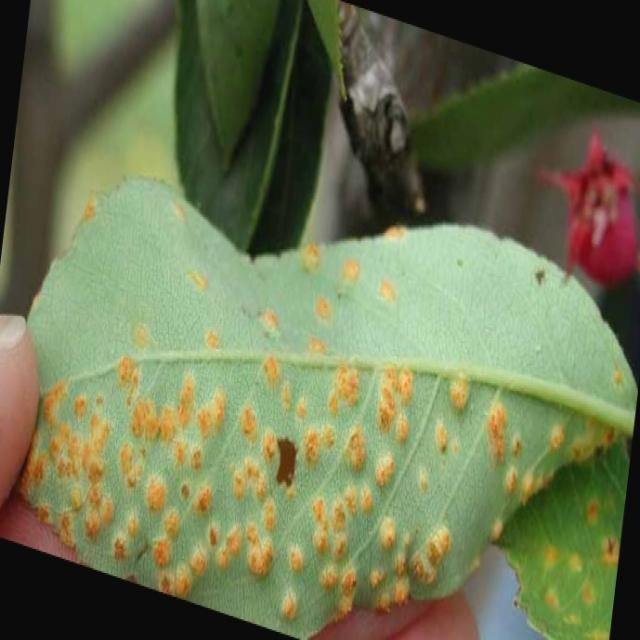Gymnosporangium_Rusts: (16, 171, 636, 637)
